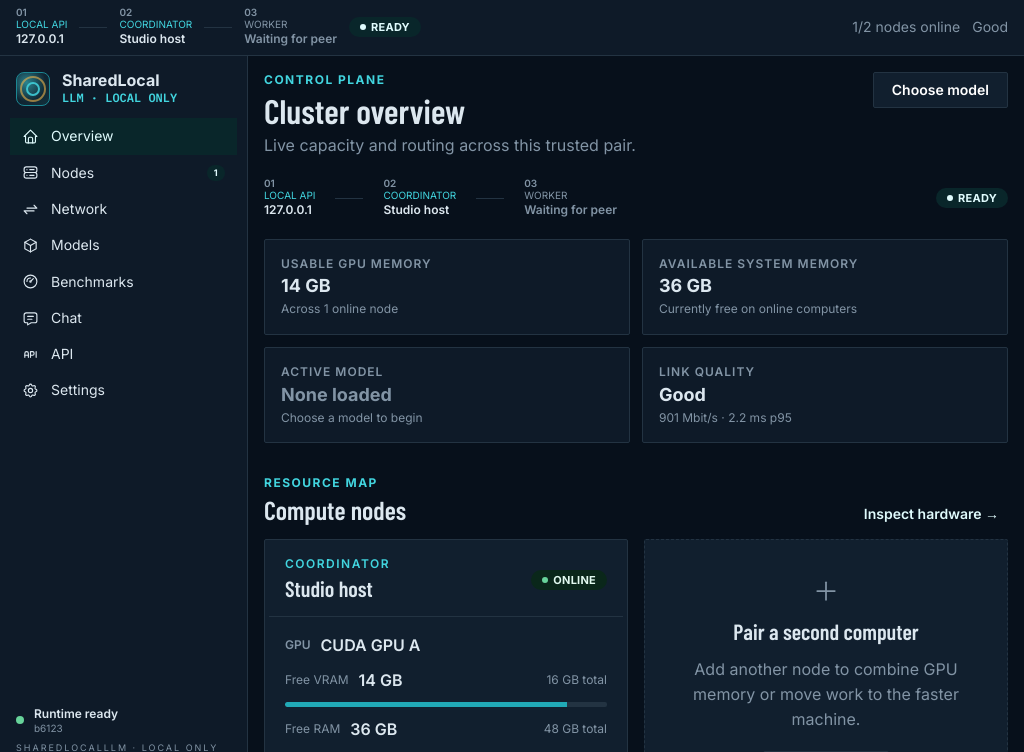
SharedLocalLLM app › shows useful empty states for unpaired nodes and models
This screenshot has width=1024, height=752.
Expected: the heading "Pair a second computer" is shown, [733,616,919,647]
Click the button "Models": (124, 245) [10,227,237,264]
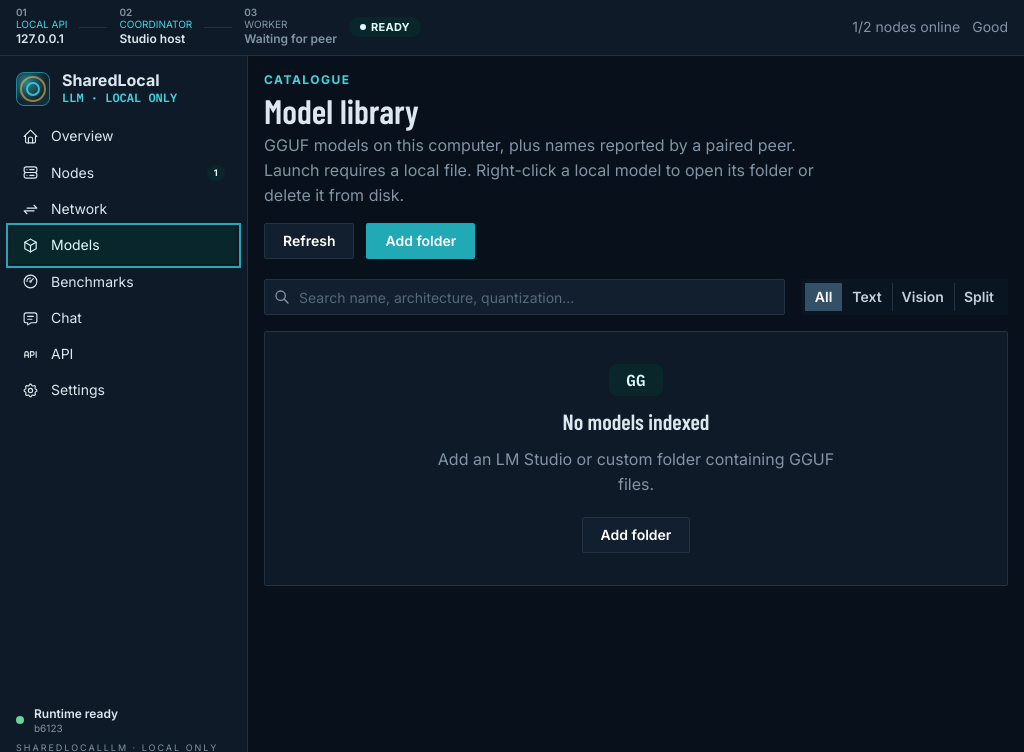
Now the heading "No models indexed" is shown, box [562,406,709,437]
Now the button "Add folder" below "Model library" is shown, box [366,223,475,259]
